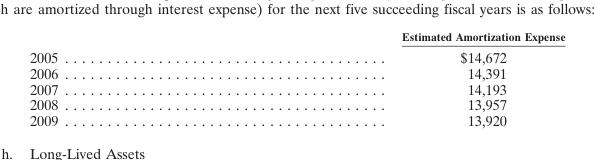table: (28, 29, 564, 128)
table column: (229, 29, 564, 128), (28, 29, 229, 128)
table column header: (28, 29, 564, 45)
table row: (28, 45, 564, 64), (28, 29, 564, 45), (28, 64, 564, 80), (28, 80, 564, 96), (28, 96, 564, 112), (28, 112, 564, 128)
